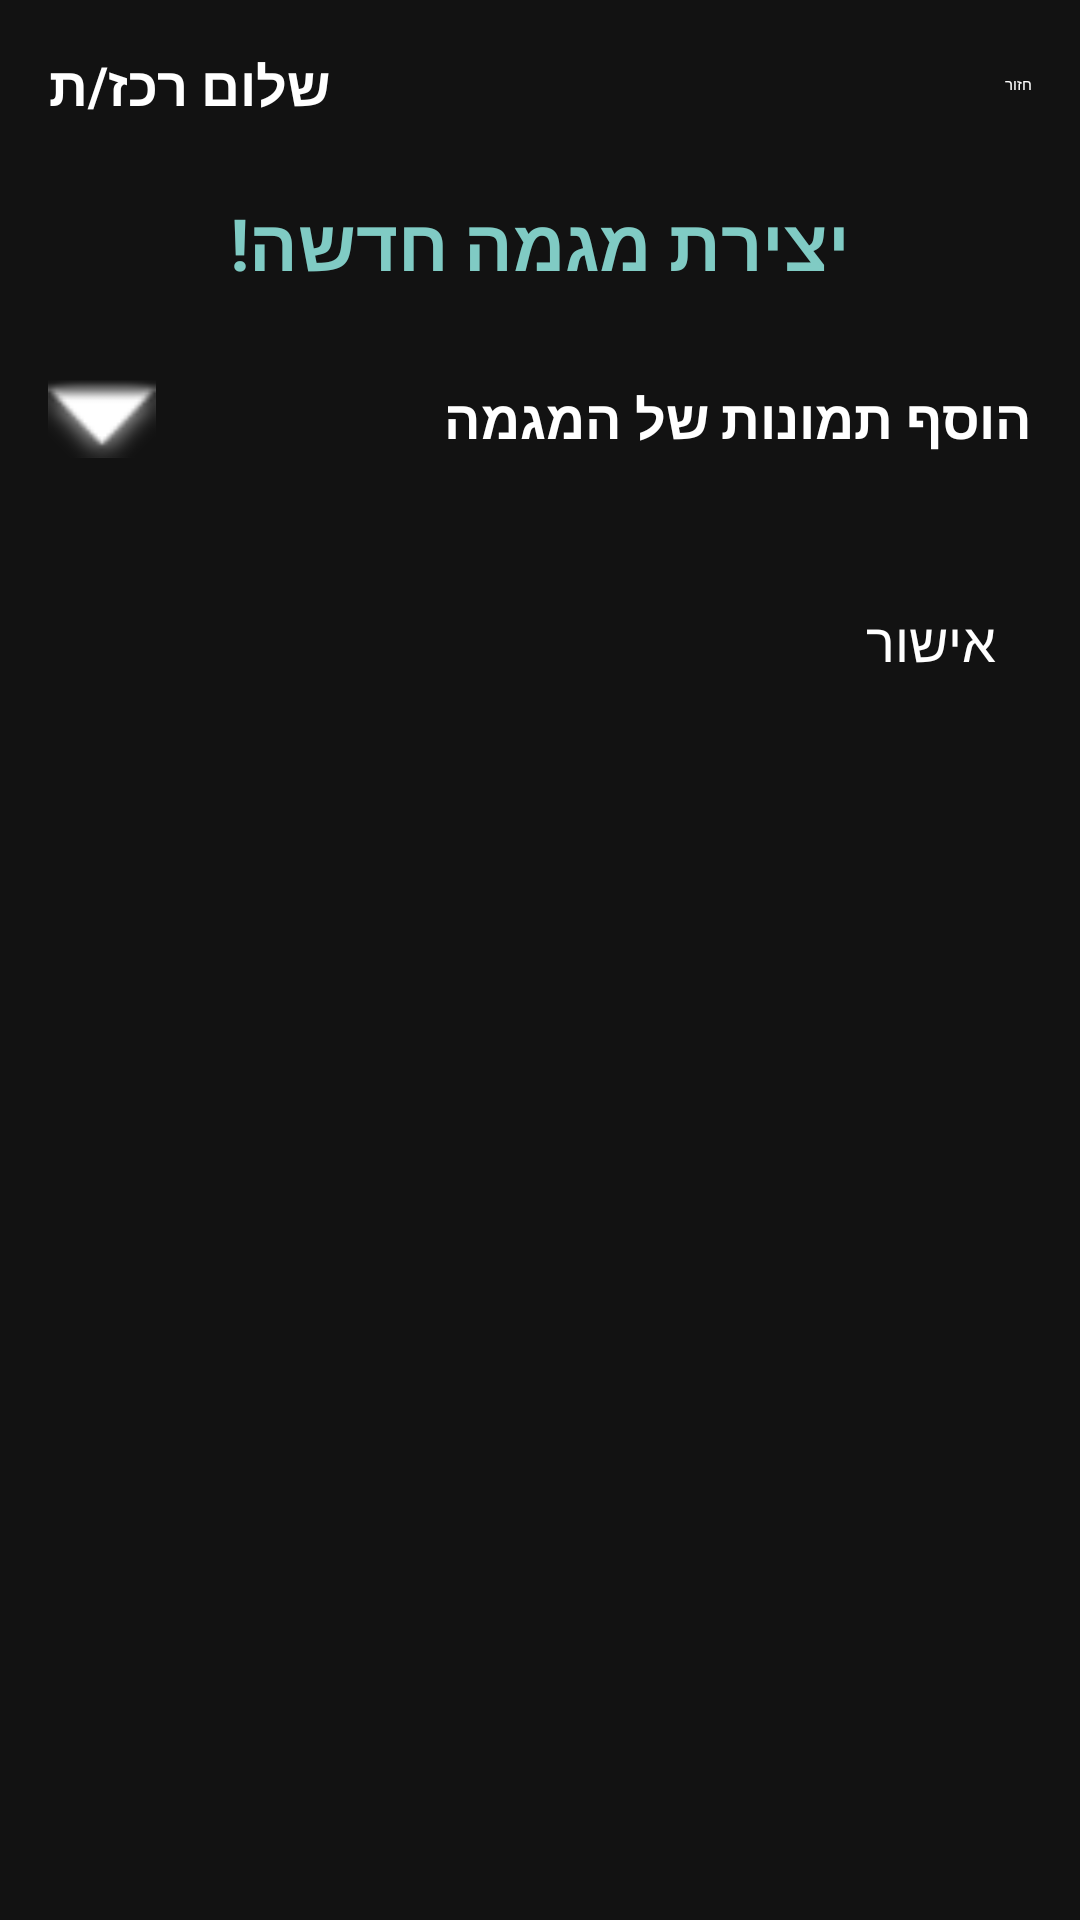

Where to tap for icons on this 1080px x 1920px app screen, as [x,y]:
הצג/הסתר הוספת תמונות: [102,419]
